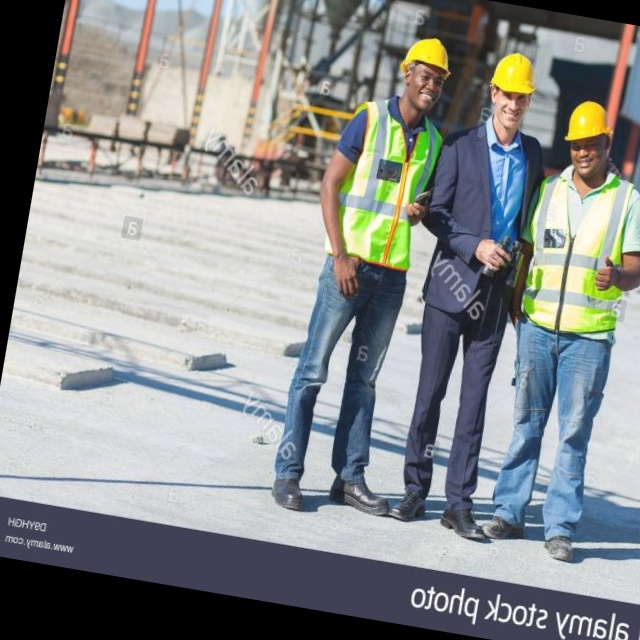Con_Casco: (394, 34, 456, 110), (484, 49, 543, 125), (561, 99, 616, 167)
Con_Chaleco: (318, 99, 448, 268), (517, 164, 638, 336)
Sin_Chaleco: (419, 124, 543, 304)
